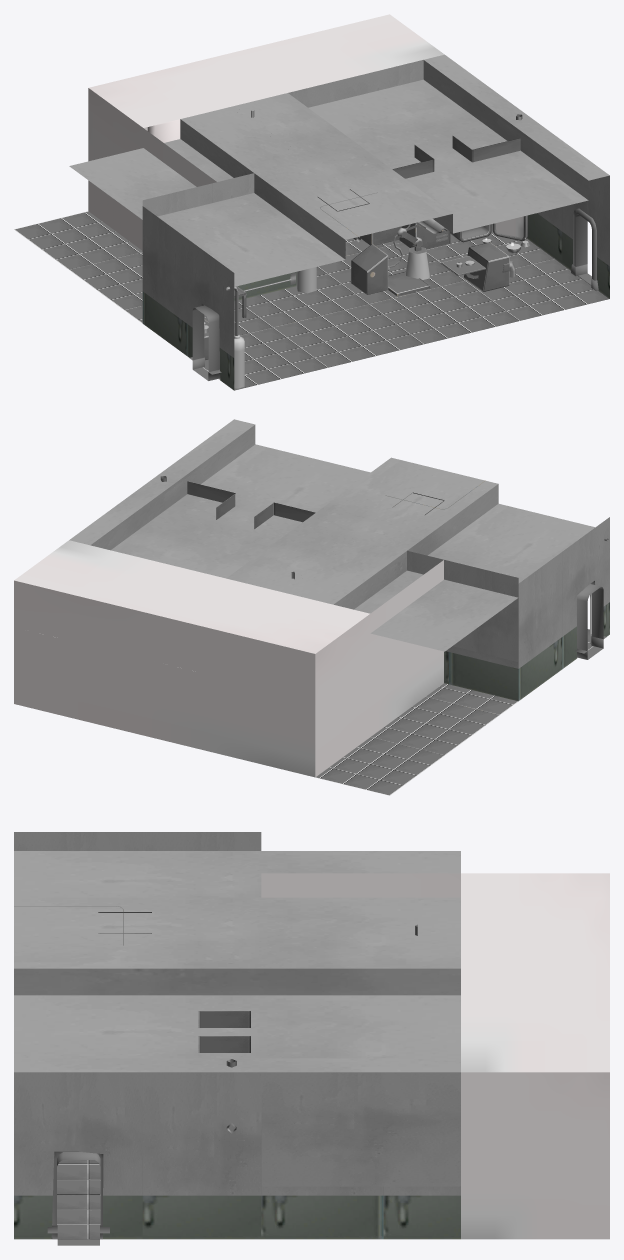
Rendered from MSH_Science_Lab_room_L2_R2_optimized.fbx.
The picture shows the model from 3 angles, top to bottom: view 1: azimuth 30°, elevation 25°; view 2: azimuth 150°, elevation 25°; view 3: azimuth 270°, elevation 25°; orthographic projection. The views are drawn at different scales.
Visible parts, largest first — view 1: lightmap1, lightmap-1; view 2: lightmap1, lightmap-1; view 3: lightmap1, lightmap-1.
Boxes of the visible parts, bbox=[...] form: lightmap1: bbox=[14, 14, 609, 390]; lightmap-1: bbox=[192, 214, 591, 380]; lightmap1: bbox=[14, 419, 609, 795]; lightmap-1: bbox=[577, 584, 603, 659]; lightmap1: bbox=[14, 832, 609, 1239]; lightmap-1: bbox=[57, 1152, 100, 1245].
Size of the model in its own units: 20.61 by 6.54 by 19.9.
